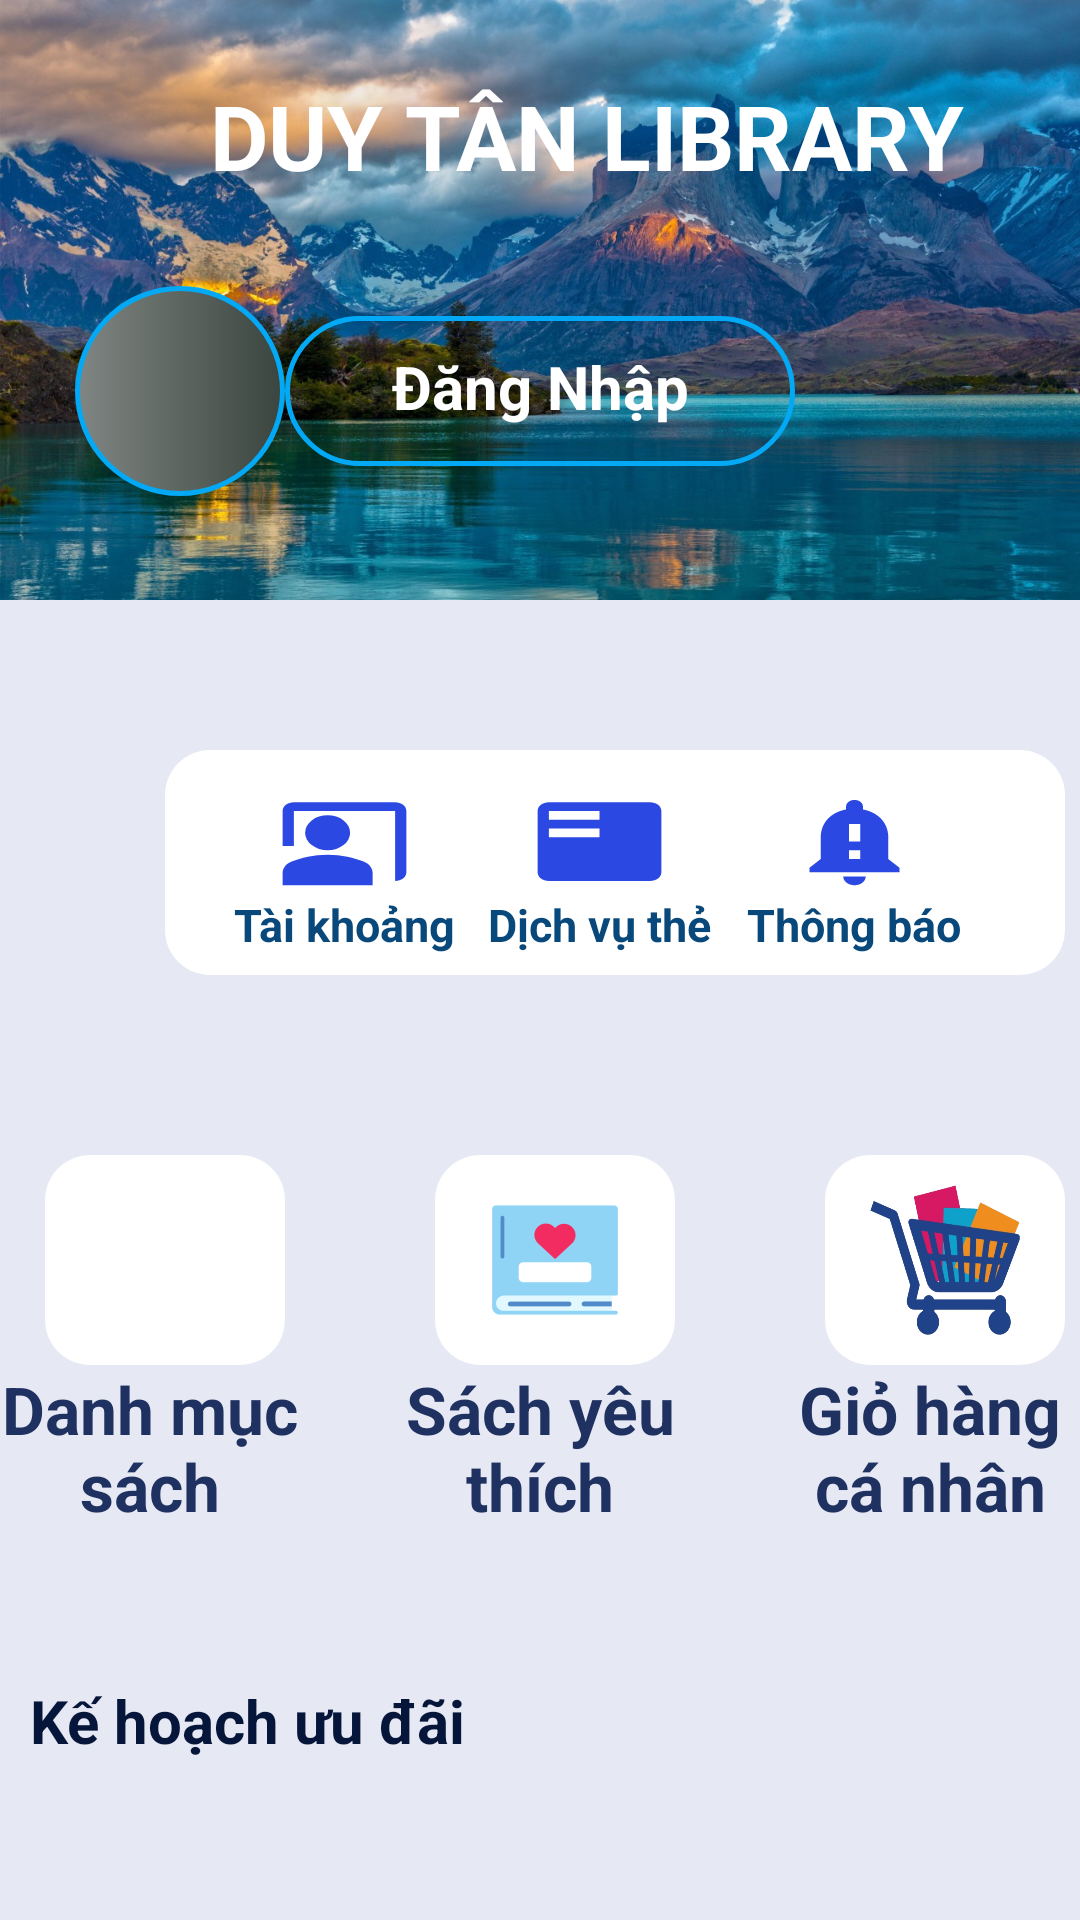

Named icons in this screenshot (1080x1920) and their bounding boxes, bbox=[x1, y1, x2, y2]:
gio hang: bbox=[870, 1185, 1020, 1335]
sach thich: bbox=[492, 1205, 618, 1315]
